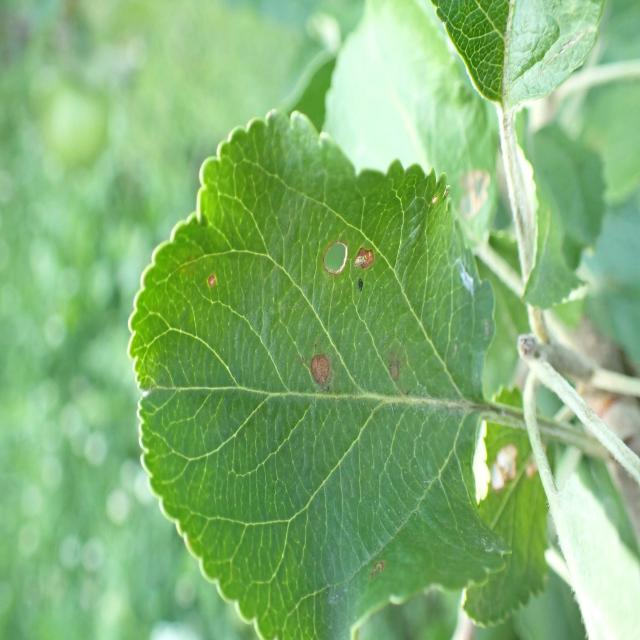Black Rot: (302, 217, 355, 296), (296, 328, 345, 406), (194, 260, 225, 324), (352, 238, 376, 291)
